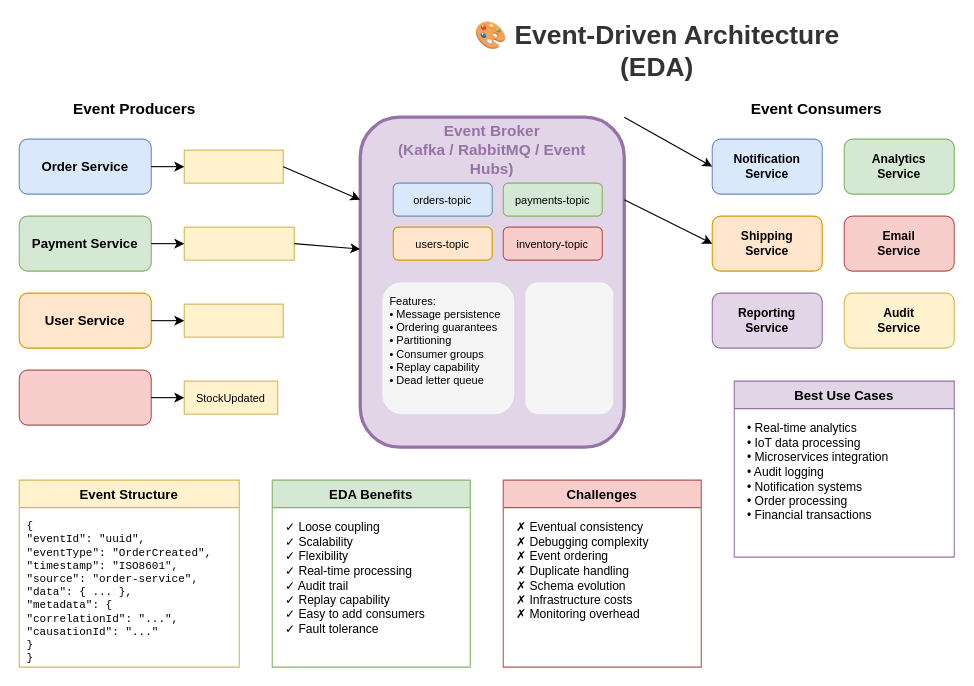
This 974x686 diagram has some shape labels left out. Each missing label, with the centre of its shape:
Inventory Service: point (84, 397)
OrderCreated: point (233, 166)
Patterns: • Pub/Sub • Point-to-Point • Request/Reply • Event Streaming • Fan-out: point (569, 348)
PaymentProcessed: point (238, 243)
UserRegistered: point (233, 320)
